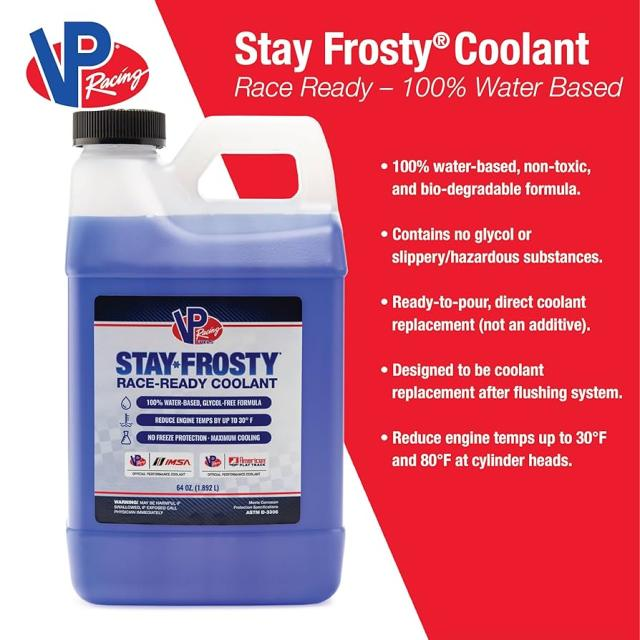coolant: (58, 110, 346, 609)
